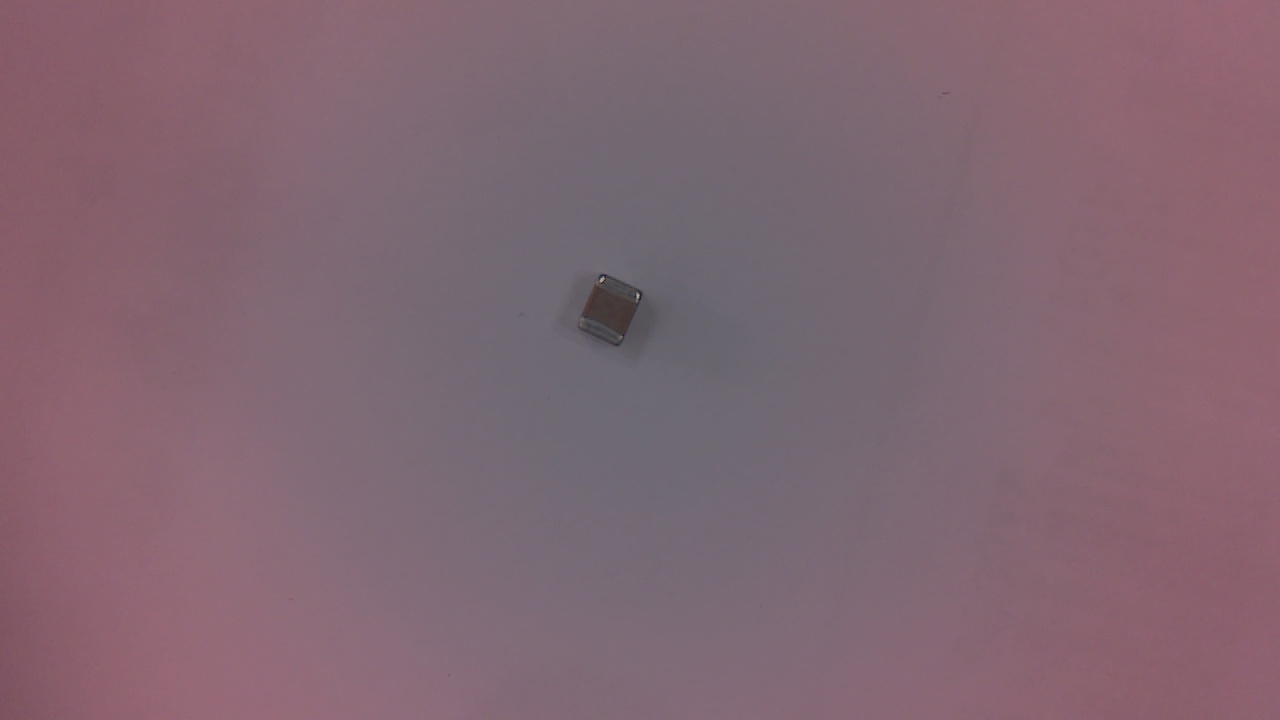Condensator: (576, 276, 650, 353)
